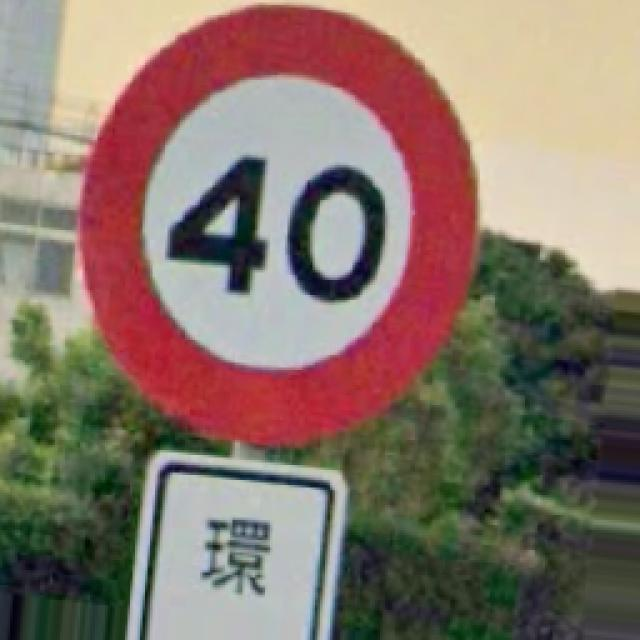Speed Limit -40-: (82, 8, 475, 442)
